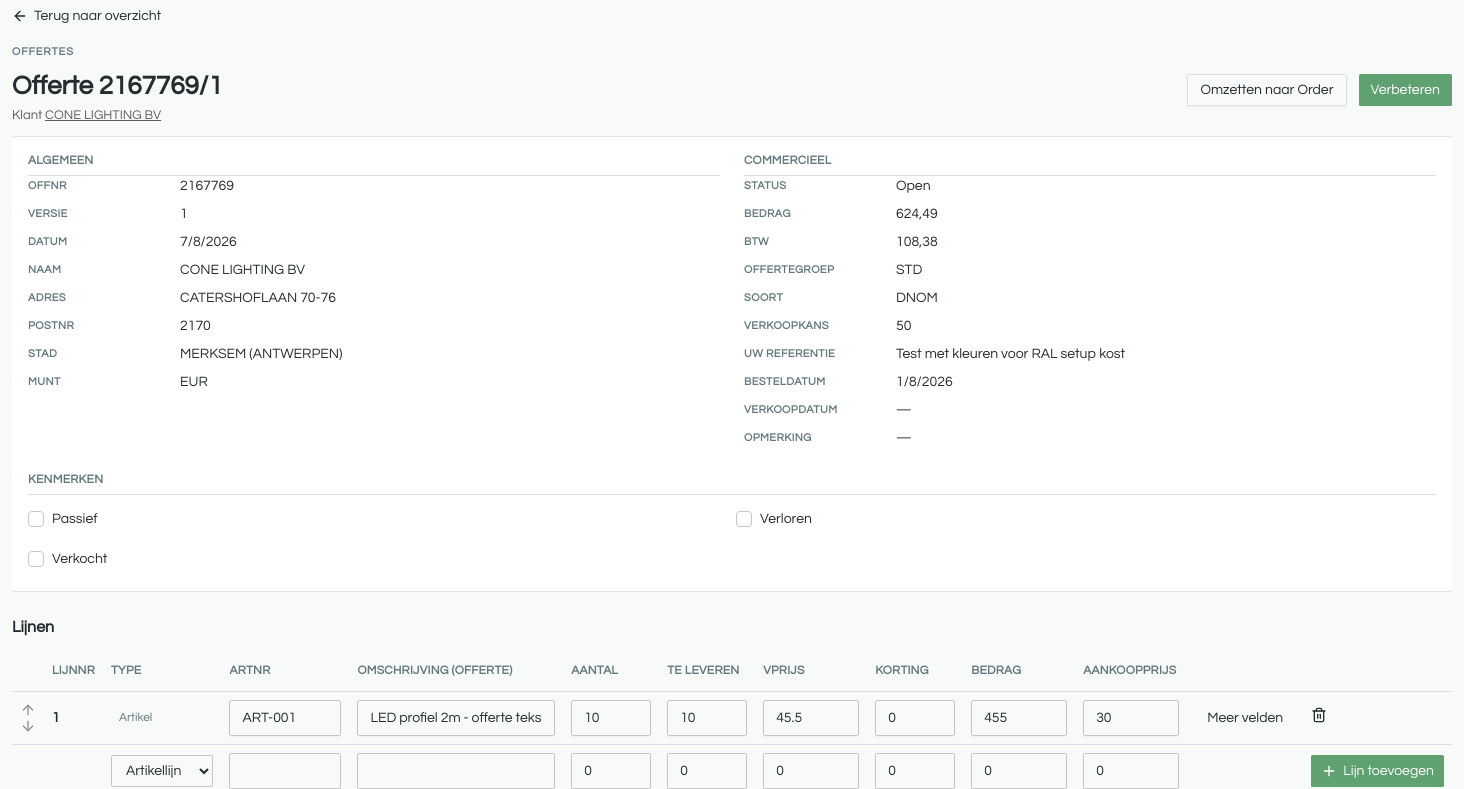
it: OfferteDetailPage › shows an inline error and does not redirect when the conversion fails
Click the button "Omzetten naar Order".
click(1267, 90)  # box [1187, 74, 1346, 106]
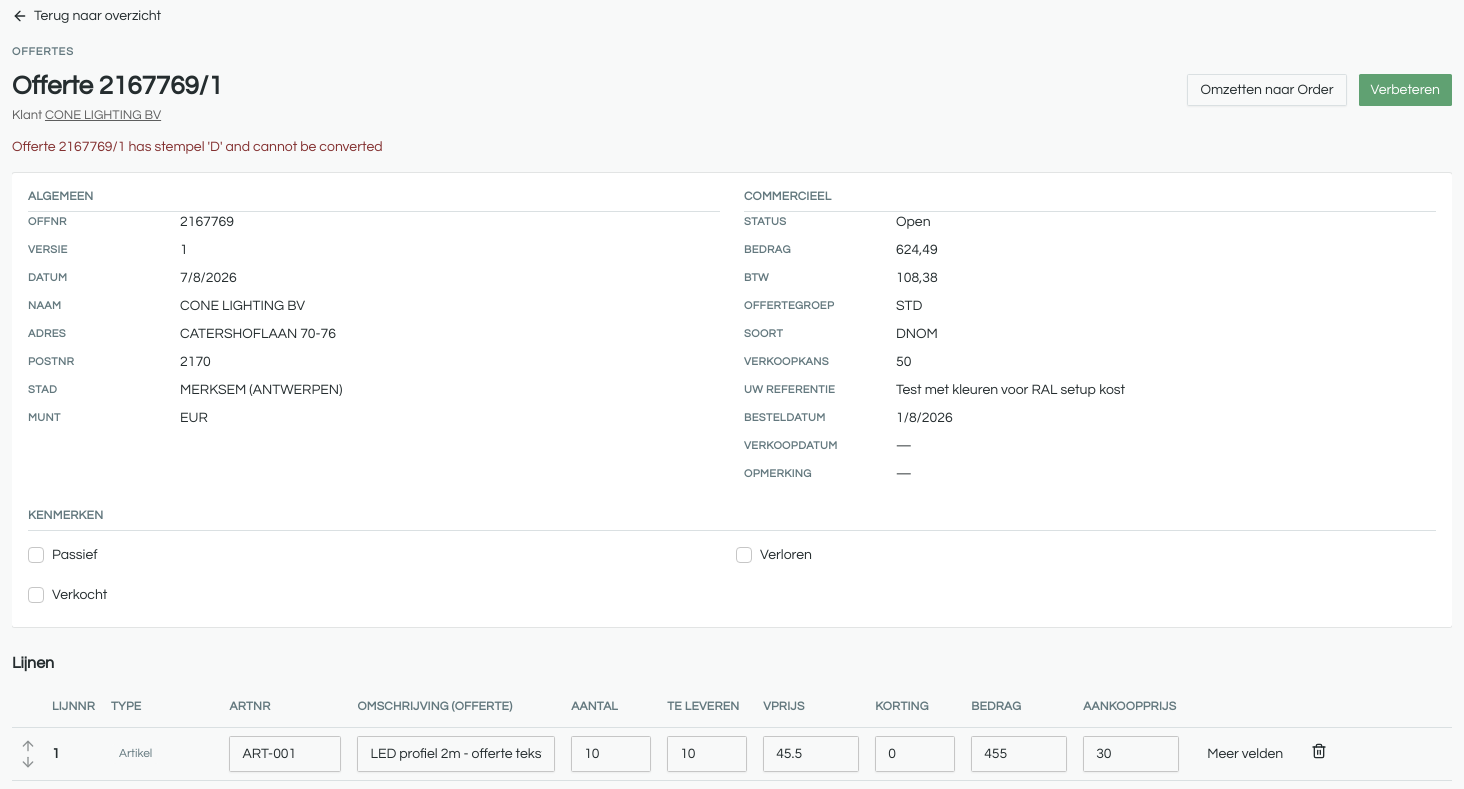
Expected: the heading "Offerte 2167769/1" is shown, [12, 66, 223, 106]
Expected: the text "Offerte 2167769/1 has stempel 'D' and cannot be converted" is shown, [12, 140, 382, 154]
